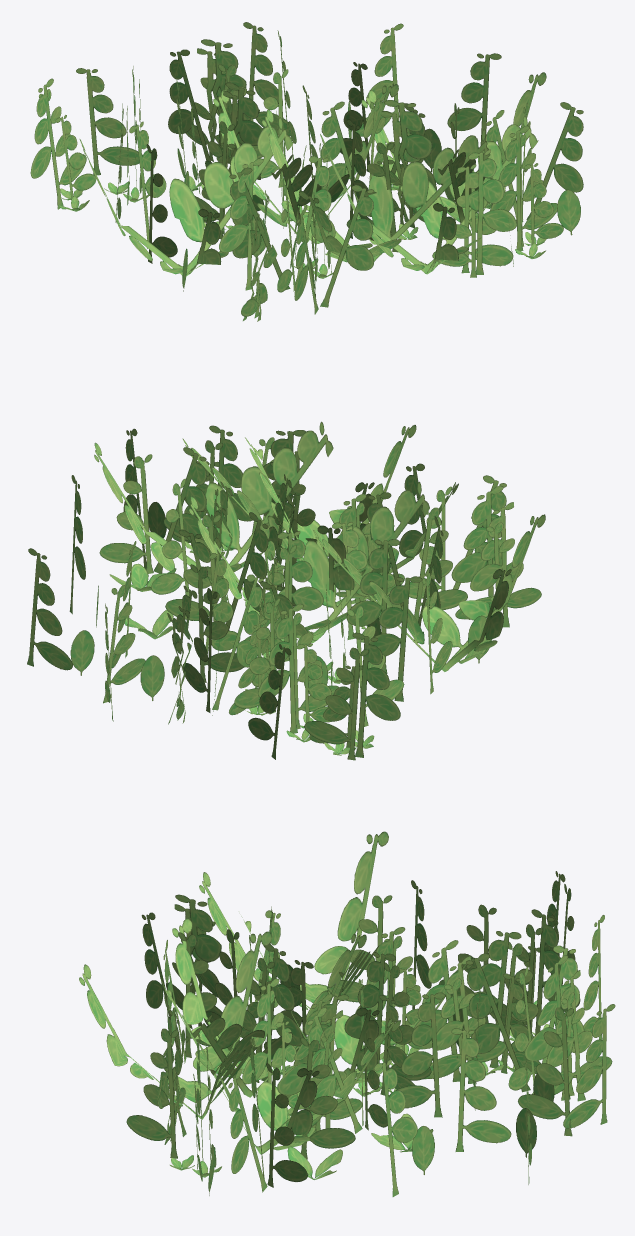
File: LeafSetE_14.fbx
The picture shows the model from 3 angles, top to bottom: view 1: azimuth 30°, elevation 25°; view 2: azimuth 150°, elevation 25°; view 3: azimuth 270°, elevation 25°; orthographic projection. The views are drawn at different scales.
Parts seen in each view (by area): view 1: LeafSetE_14; view 2: LeafSetE_14; view 3: LeafSetE_14.
Boxes of the visible parts, x1,y1,x2,y2 form: LeafSetE_14: [30, 22, 583, 321]; LeafSetE_14: [27, 421, 545, 760]; LeafSetE_14: [79, 831, 615, 1196].
Bounding box in the file's own units: 2.88 × 0.8718 × 2.73.
